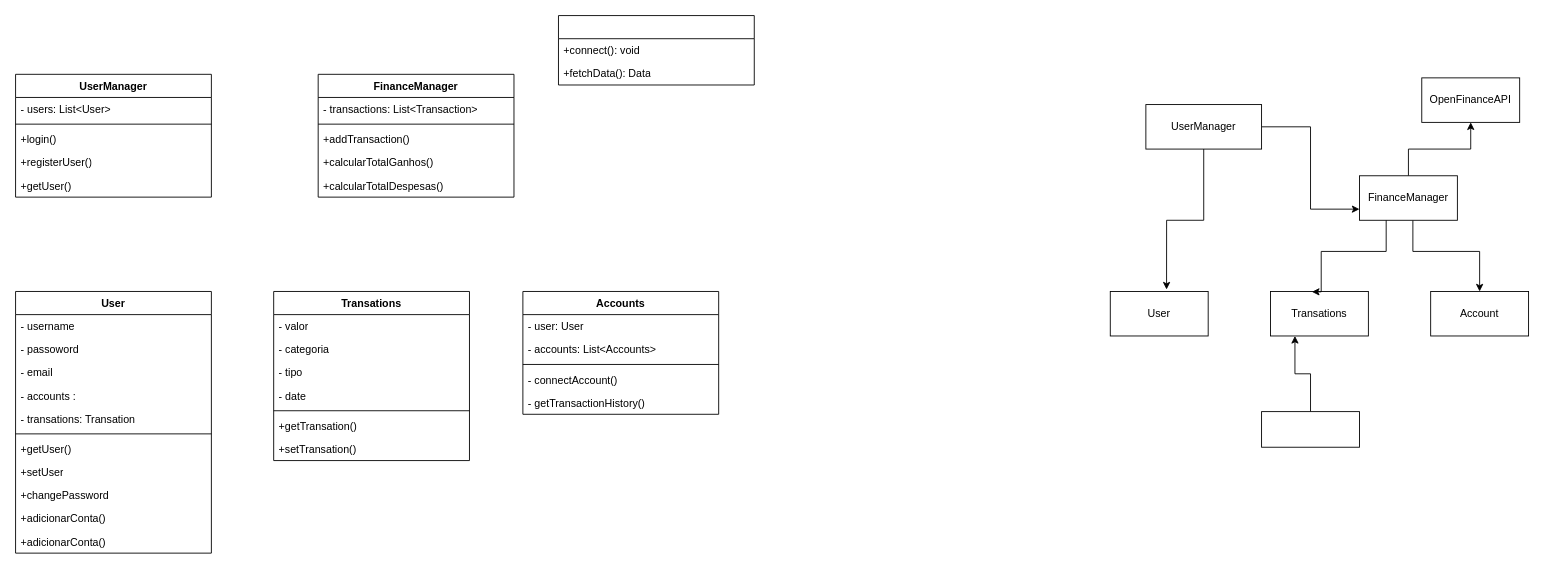
This 1544x571 diagram has some shape labels left out. Here are the shapes that lost their labels. From the top down, the box of each, then its label:
(558, 15, 754, 85): OpenFinanceAdapter
(1261, 411, 1359, 447): Log
